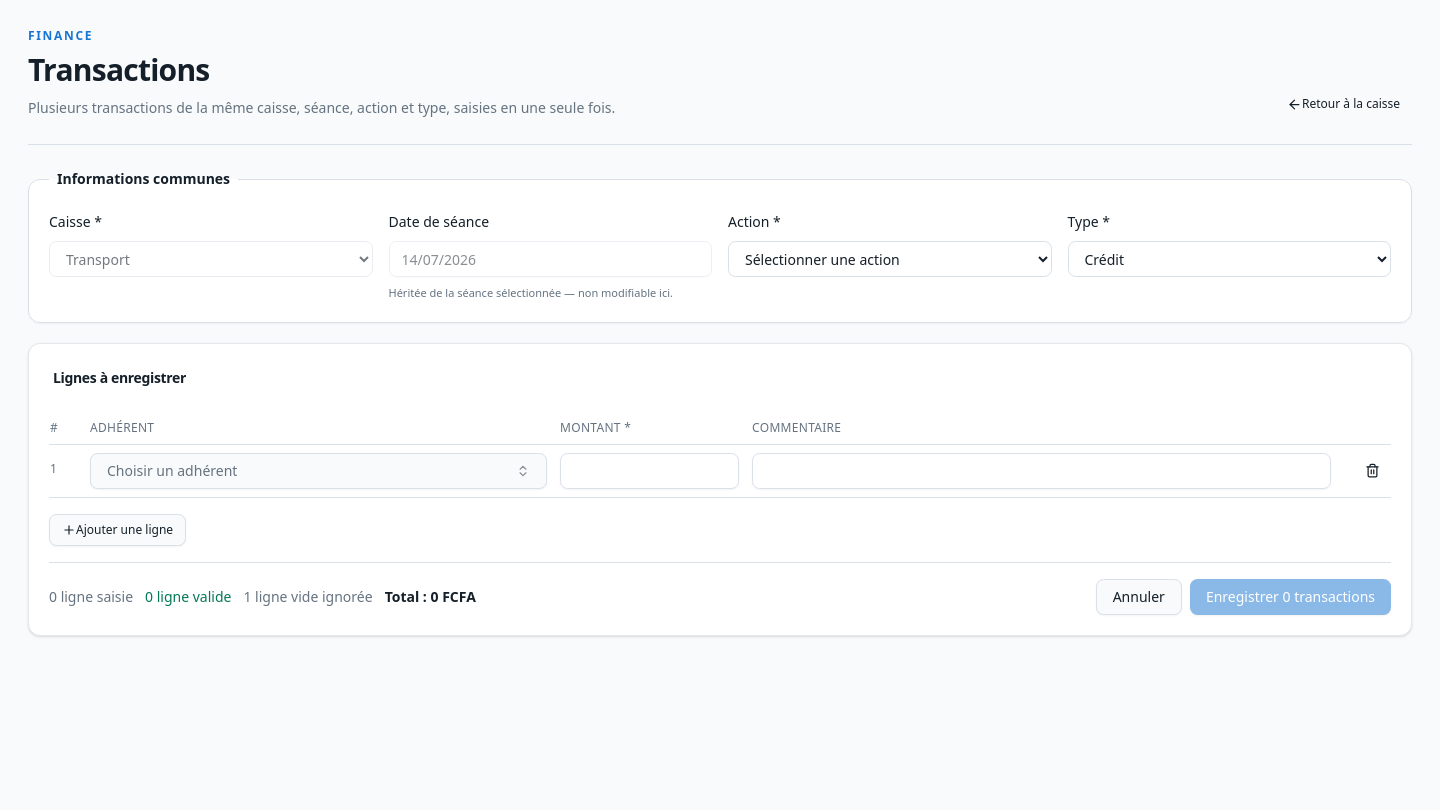
Saisie rapide — lignes, validation, total › AUTRES : aucune sous-catégorie à choisir, l’enregistrement est possible directement
Expected: the heading "Transactions" is shown, x1=28 y1=49 x2=210 y2=90
Select "Autres" in the dropdown labelled "Action *" at (890, 259), box x1=728 y1=241 x2=1052 y2=277
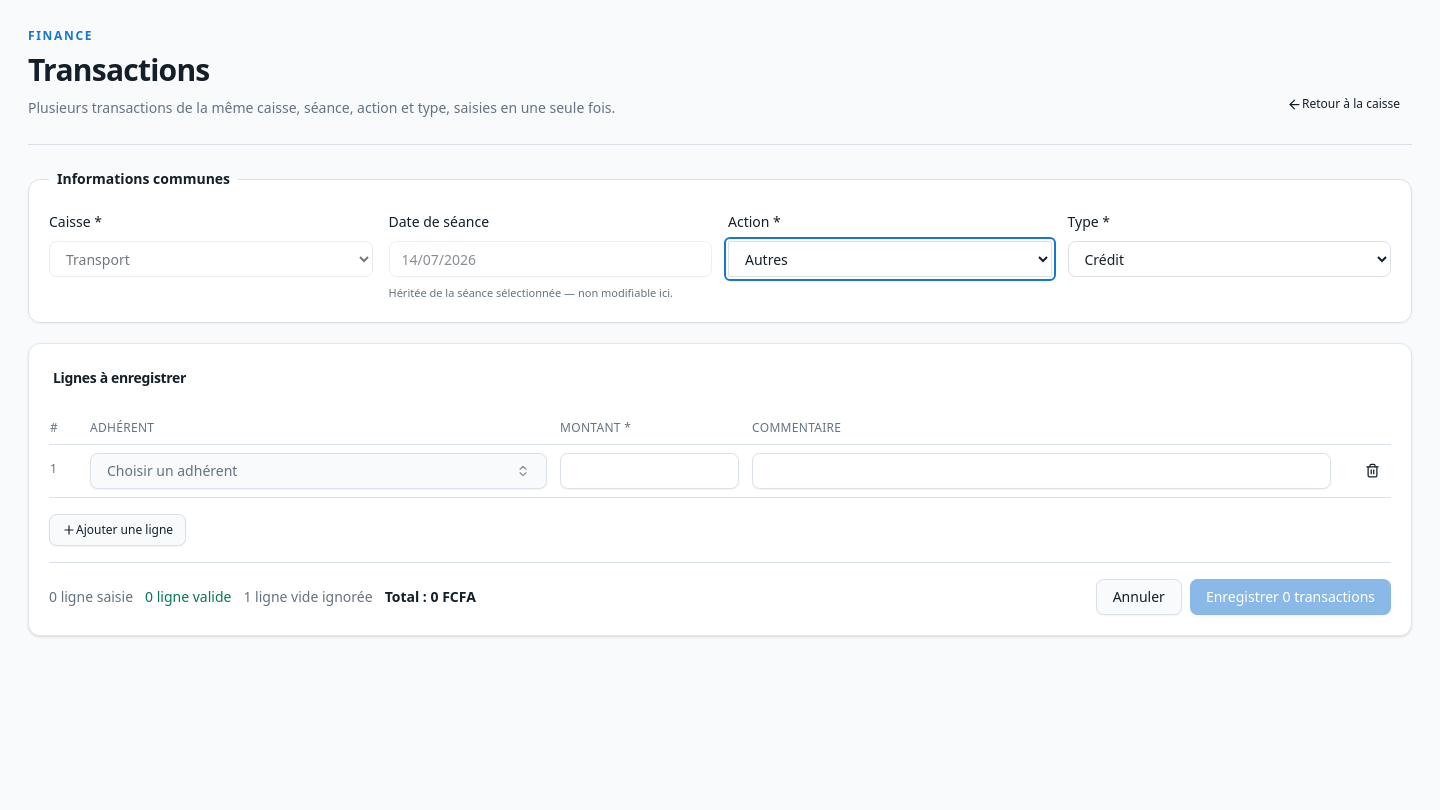
Click the dropdown labelled "Choisir un adhérent".
click(172, 470)  # box x1=90 y1=452 x2=547 y2=488
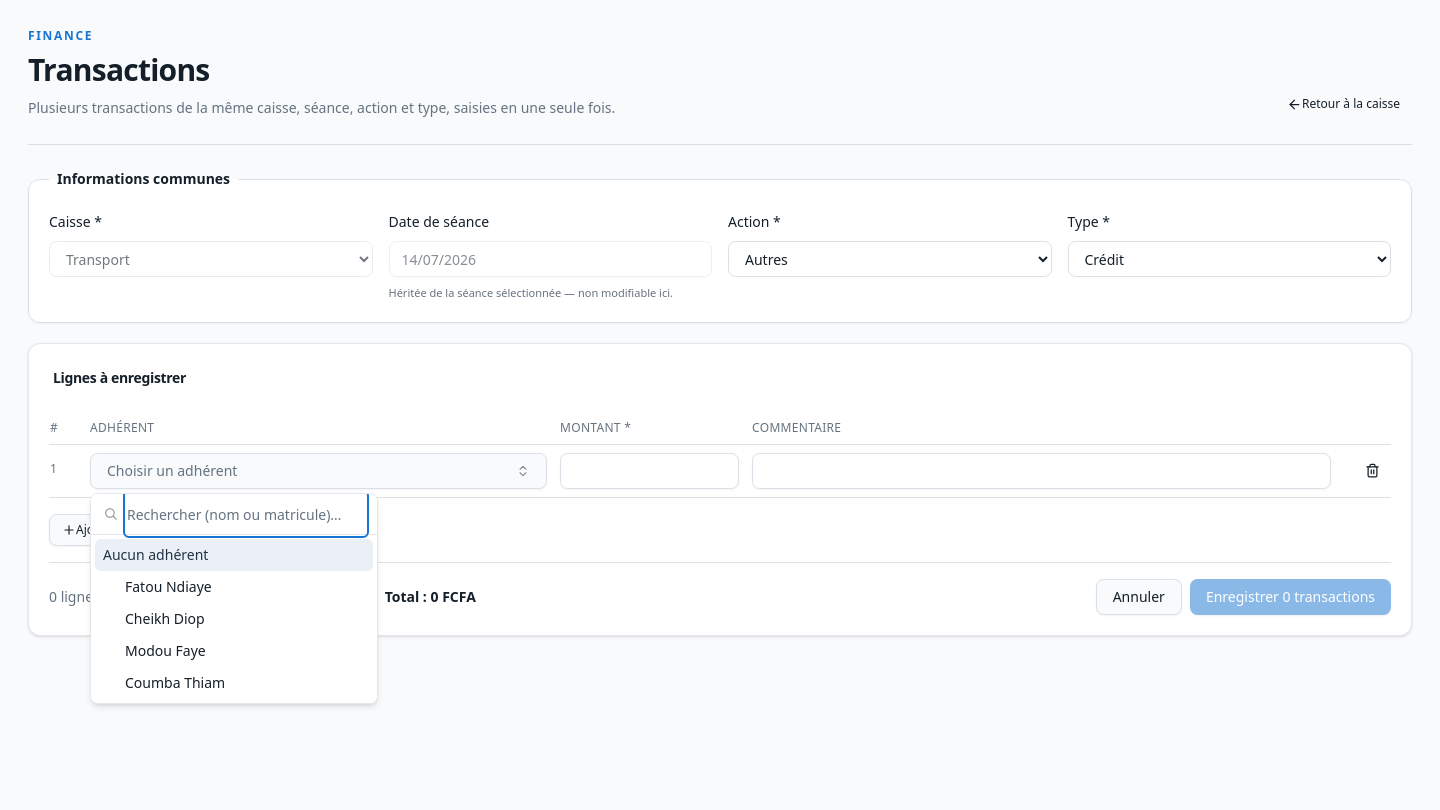
Type "Fatou" into the dropdown with placeholder "Rechercher (nom ou matricule)…".
click(246, 514); type("Fatou")  # box x1=127 y1=494 x2=365 y2=534
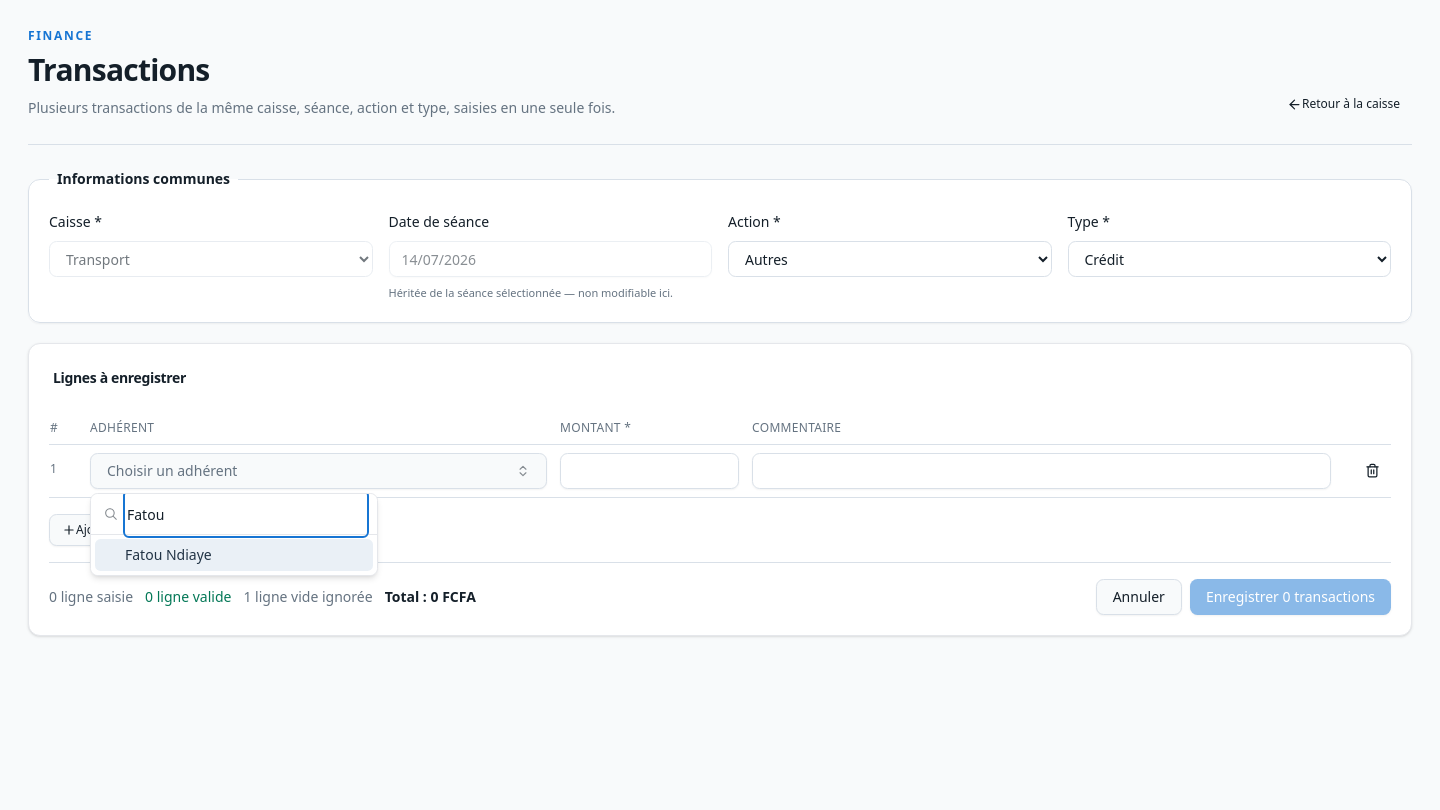
Click the option "Fatou Ndiaye".
click(168, 554)  # box x1=95 y1=539 x2=373 y2=571
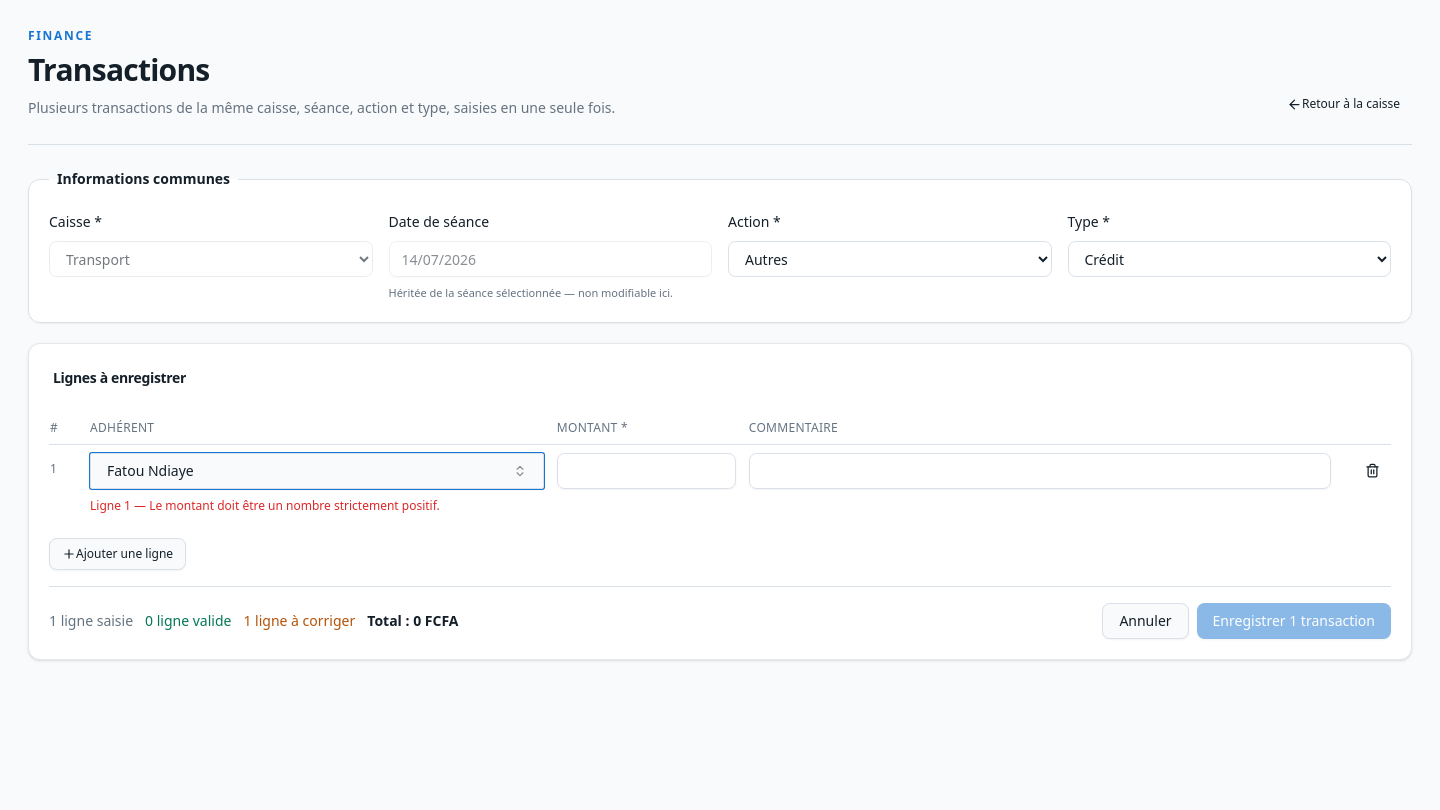
Type "5000" into the field named "Montant de la ligne 1".
click(646, 470); type("5000")  # box x1=557 y1=452 x2=736 y2=488
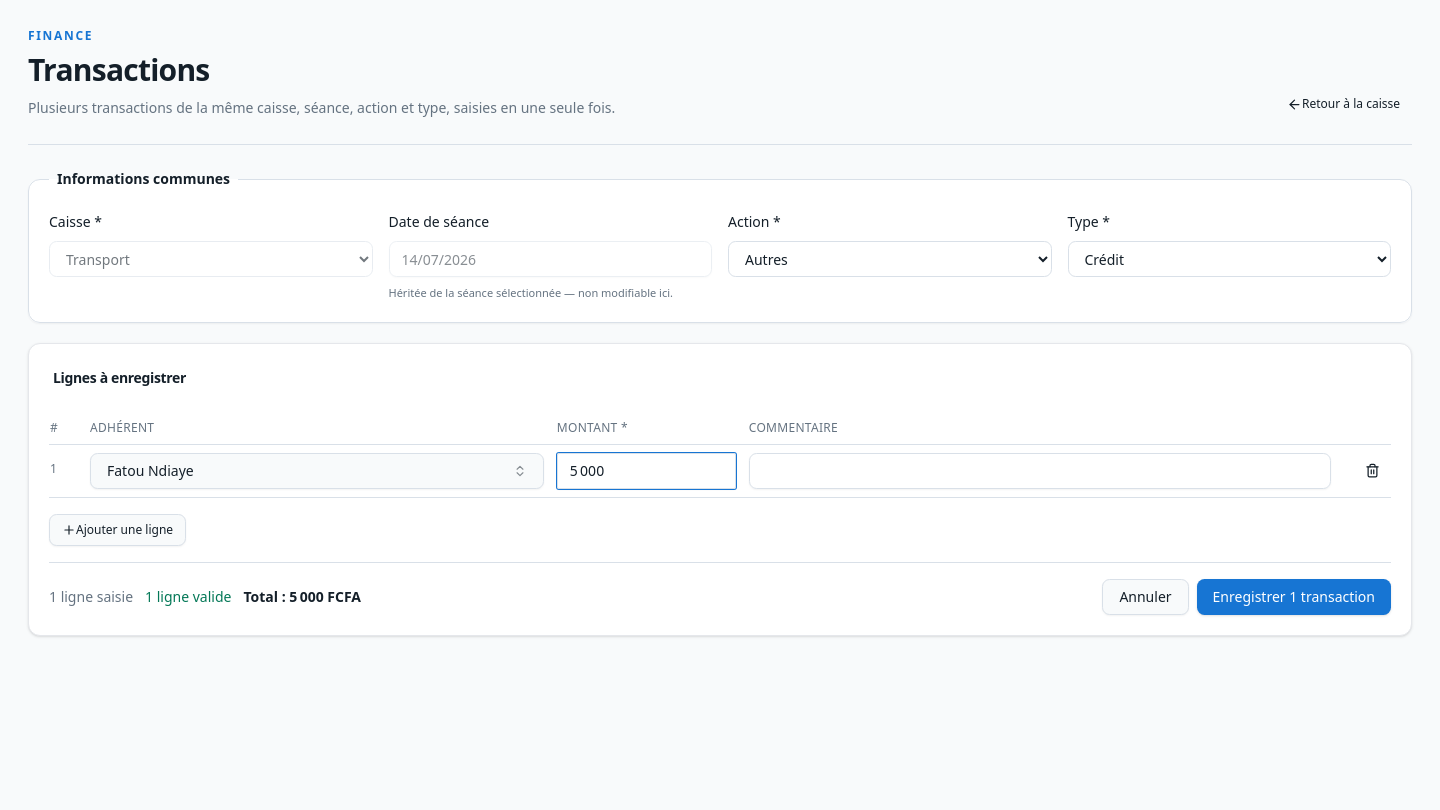
Result: the button "Enregistrer 1 transaction" is enabled at x1=1197 y1=578 x2=1391 y2=614
